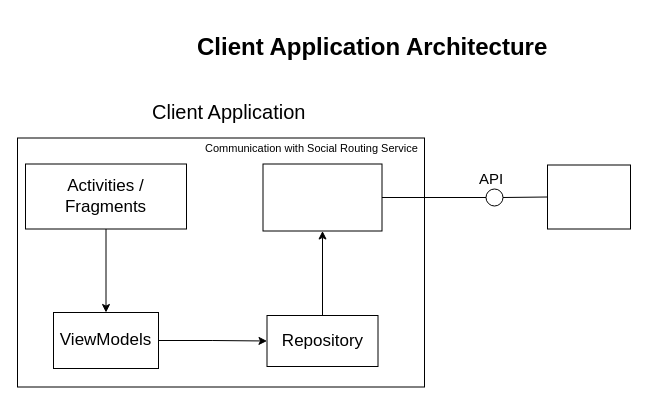
Image size: 648x404. Some labels were removed from this diagram. Each missing label, with the box of its shape:
Remote Data Source: (262, 163, 382, 231)
Service: (546, 164, 630, 229)
